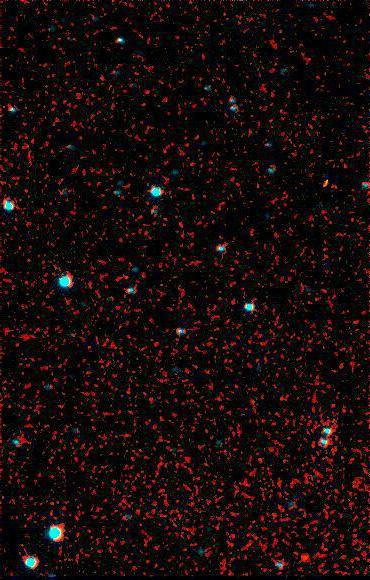star: (290, 542, 320, 572)
